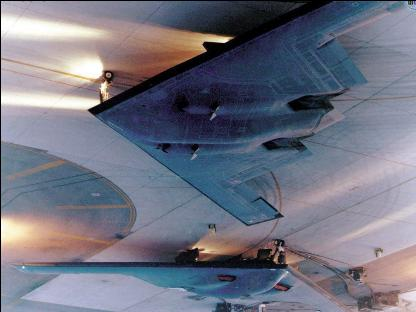B1: (86, 0, 414, 226), (3, 240, 358, 311)
